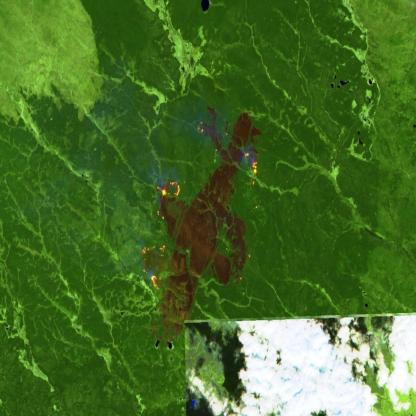fire: (153, 179, 180, 222), (242, 148, 261, 182), (148, 271, 163, 296)
